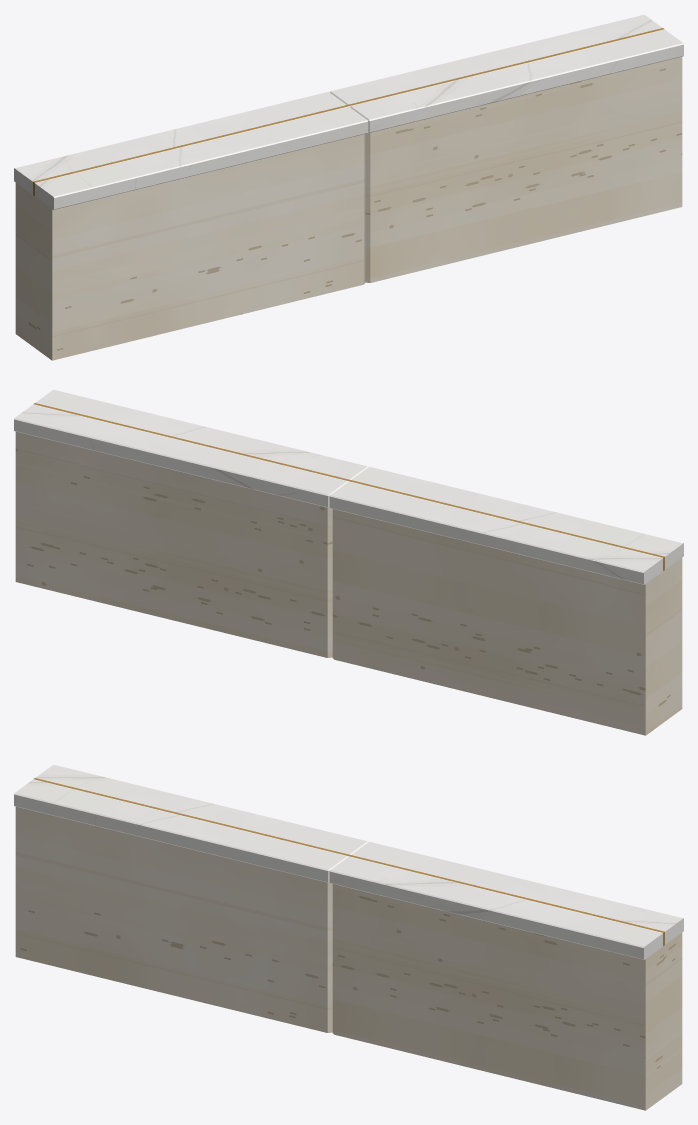
3 views of the same model, one above another, from view 1: azimuth 30°, elevation 25°; view 2: azimuth 150°, elevation 25°; view 3: azimuth 330°, elevation 25° (orthographic).
Visible parts, largest first — view 1: Mesh_parapet_4; view 2: Mesh_parapet_4; view 3: Mesh_parapet_4.
Boxes of the visible parts, x1,y1,x2,y2 form: Mesh_parapet_4: (14, 14, 683, 360); Mesh_parapet_4: (14, 389, 683, 735); Mesh_parapet_4: (14, 764, 683, 1110).
Bounding box in the file's own units: 4 × 1 × 0.44.
1 material, 1 textured.
